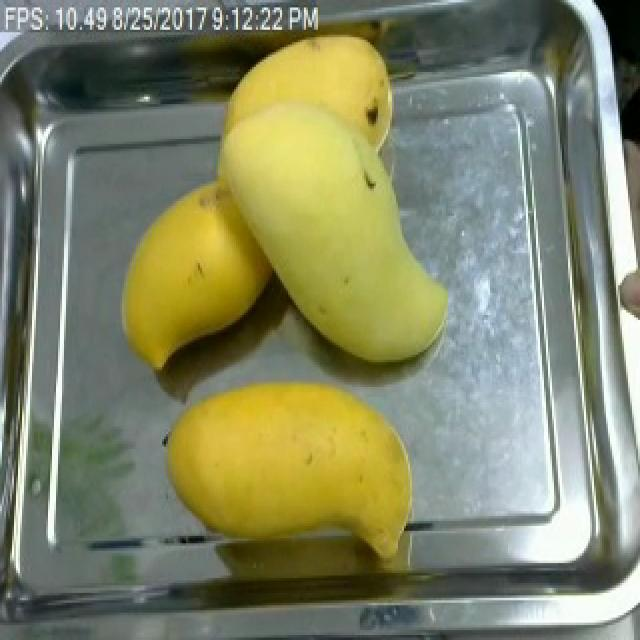fruit: (198, 20, 470, 379), (152, 364, 430, 576), (104, 166, 284, 382)
